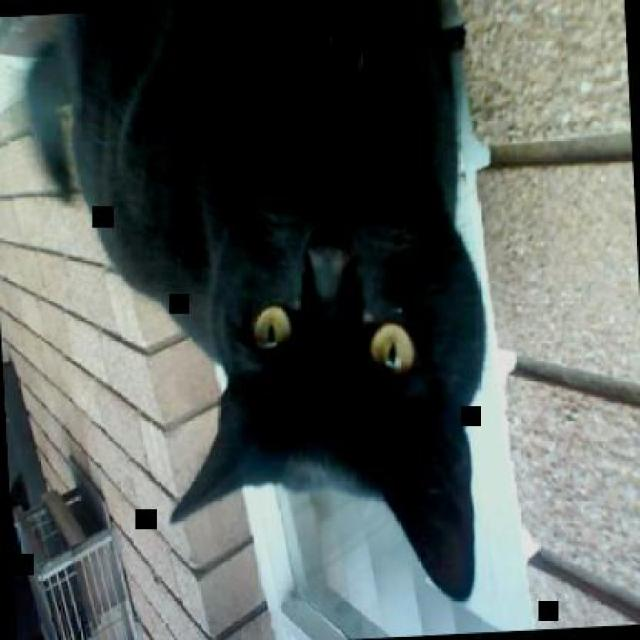cat: (20, 0, 502, 623)
